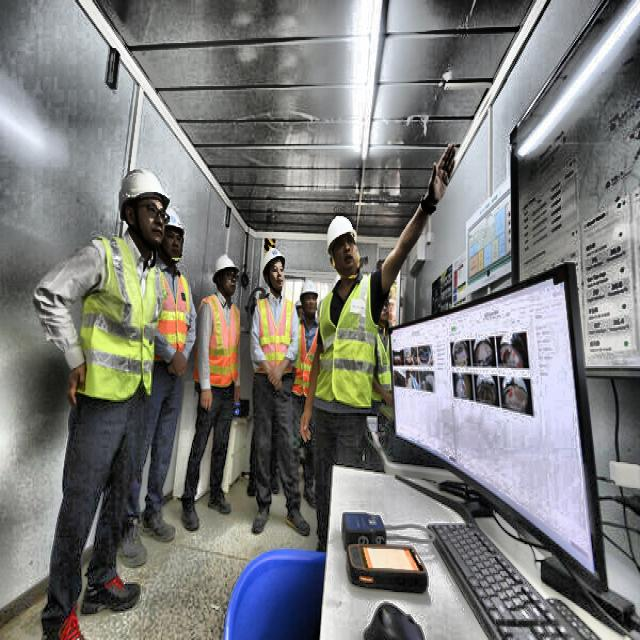safety_helmet: (120, 165, 165, 216), (324, 211, 361, 256), (159, 209, 189, 235), (260, 243, 291, 267), (212, 257, 240, 282), (298, 279, 320, 302)
safety_jacket: (77, 234, 166, 406), (310, 270, 392, 416), (246, 300, 302, 386), (194, 298, 242, 389), (149, 268, 189, 374)
